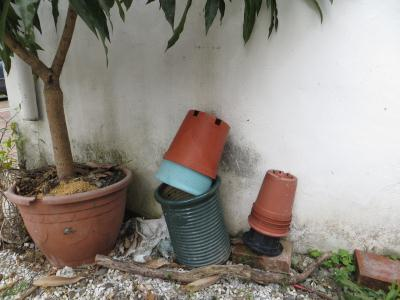bucket: (150, 174, 235, 273), (157, 107, 231, 184), (245, 165, 298, 242)
